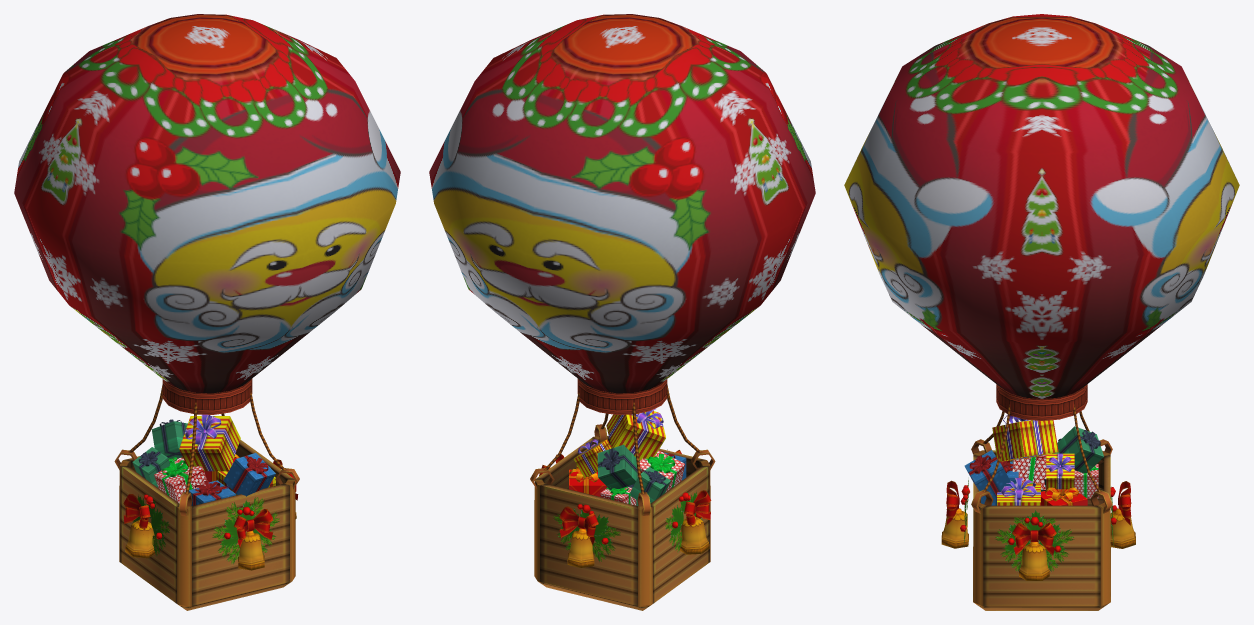
Rendered from Balloon1.FBX.
3 views of the same model, side by side, from view 1: azimuth 30°, elevation 25°; view 2: azimuth 150°, elevation 25°; view 3: azimuth 270°, elevation 25° (orthographic).
Parts seen in each view (by area): view 1: Object561, Object562, Box178, Object563, Box175, Box172, Box174, Box177, Box170; view 2: Object561, Object565, Object563, Box178, Box174, Box172, Box177, Box173, Box168; view 3: Object561, Object564, Box178, Object562, Object565, Box174, Box175, Box173, Box169, Box172, Box168, Box176.
Part boxes in pixels (<box>): Object561: <box>14,14,400,610</box>; Object562: <box>212,497,279,570</box>; Box178: <box>179,414,240,471</box>; Object563: <box>123,493,169,558</box>; Box175: <box>223,453,275,496</box>; Box172: <box>154,458,207,503</box>; Box174: <box>151,419,187,459</box>; Box177: <box>132,447,169,487</box>; Box170: <box>188,480,235,505</box>; Object561: <box>429,14,815,610</box>; Object565: <box>553,504,620,567</box>; Object563: <box>665,490,711,554</box>; Box178: <box>606,408,665,460</box>; Box174: <box>597,444,637,489</box>; Box172: <box>637,450,685,492</box>; Box177: <box>630,467,670,503</box>; Box173: <box>573,439,611,477</box>; Box168: <box>569,466,606,496</box>; Object561: <box>844,14,1239,610</box>; Object564: <box>995,509,1074,580</box>; Box178: <box>992,415,1058,461</box>; Object562: <box>941,480,969,548</box>; Object565: <box>1110,481,1135,548</box>; Box174: <box>1057,426,1103,473</box>; Box175: <box>964,450,1013,500</box>; Box173: <box>1046,453,1074,489</box>; Box169: <box>997,478,1040,505</box>; Box172: <box>1012,455,1046,489</box>; Box168: <box>1041,487,1087,505</box>; Box176: <box>1074,464,1098,498</box>.
Bounding box in the file's own units: 185 × 286 × 185.
7 materials, 7 textured.
